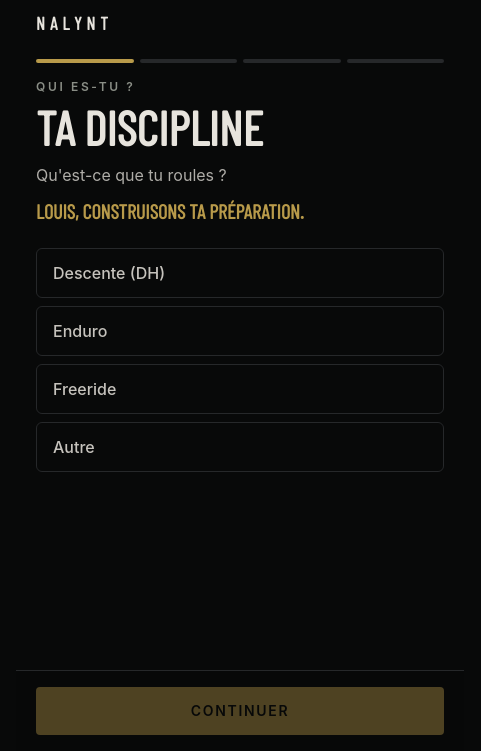
Test case: AthleteOnboarding — one question per screen (UX-09) › Back returns to the previous step without saving again
The image size is (481, 751).
Expected: the heading reads "Ta discipline", x1=36 y1=98 x2=263 y2=156
Click the button "Descente (DH)".
click(109, 273)  # box x1=36 y1=248 x2=444 y2=298
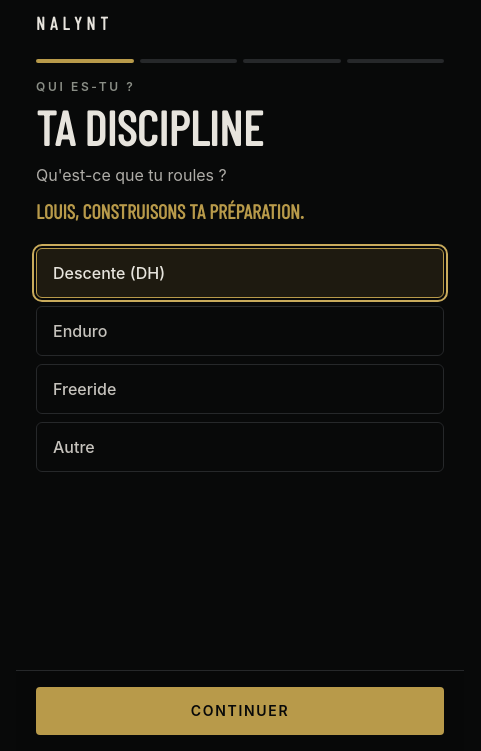
Click the button "Continuer".
click(240, 711)  # box x1=36 y1=687 x2=444 y2=735
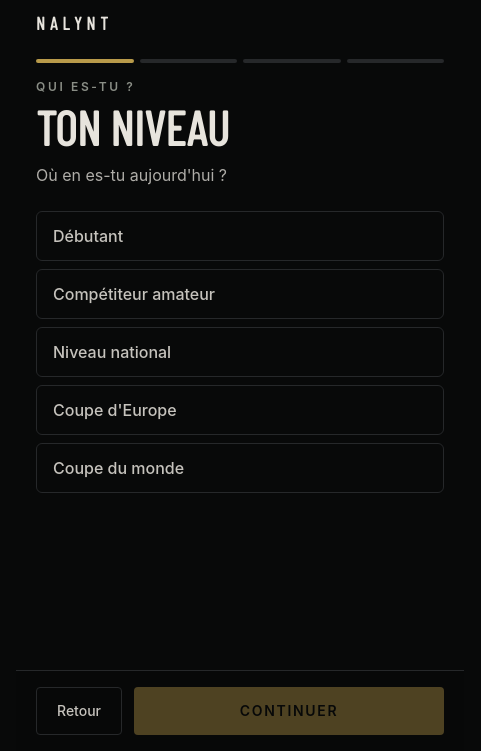
Expected: the heading reads "Ton niveau", x1=36 y1=98 x2=229 y2=156
Click the button "Retour".
click(79, 711)  # box x1=36 y1=687 x2=122 y2=735
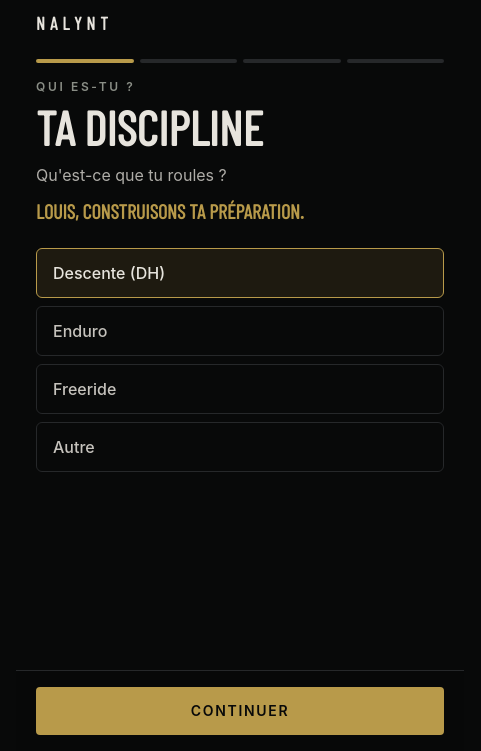
Expected: the heading reads "Ta discipline", x1=36 y1=98 x2=263 y2=156
